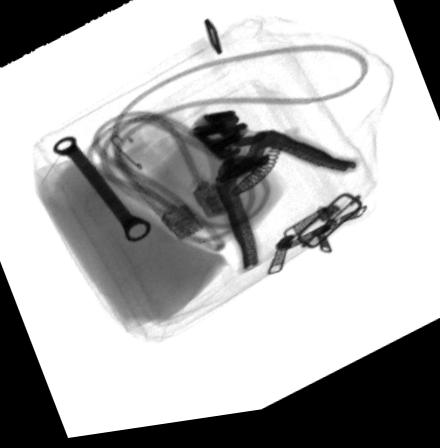Pliers: (191, 116, 357, 279)
Wrench: (53, 138, 152, 246)
